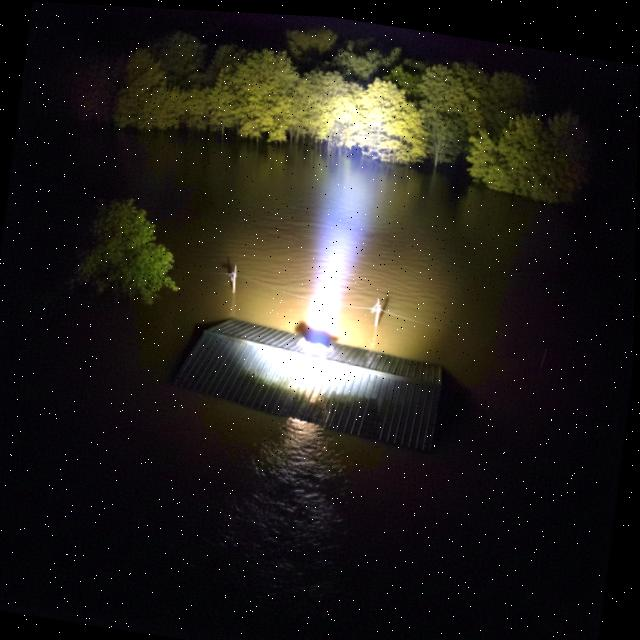cat: (284, 325, 342, 373)
